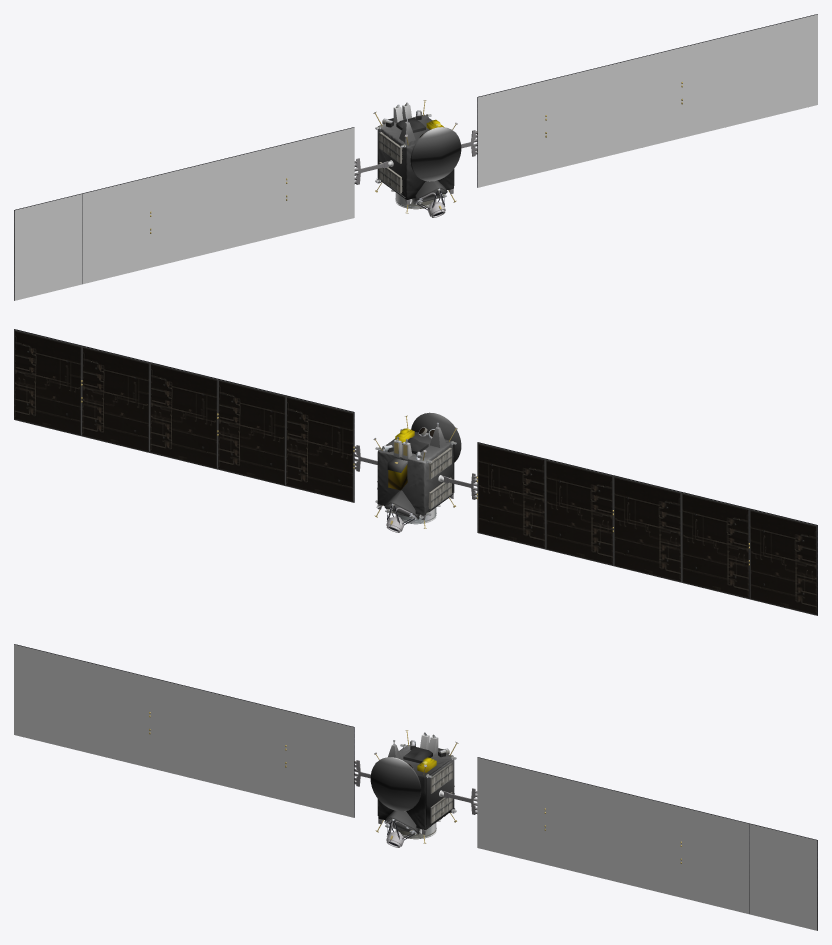
The model's file is Dawn.glb.
3 views of the same model, one above another, from view 1: azimuth 30°, elevation 25°; view 2: azimuth 150°, elevation 25°; view 3: azimuth 330°, elevation 25° (orthographic).
Parts seen in each view (by area): view 1: tex_01.002, black_krinkle, foil_silver_2, tex_01; view 2: tex_01.002, black_krinkle, tex_01, foil_silver_2, foil_gold; view 3: tex_01.002, black_krinkle, foil_silver_2, tex_01.
Boxes of the visible parts, x1,y1,x2,y2 form: tex_01.002: [14, 14, 817, 300]; black_krinkle: [377, 104, 454, 204]; foil_silver_2: [410, 127, 461, 181]; tex_01: [373, 100, 457, 217]; tex_01.002: [14, 329, 817, 615]; black_krinkle: [377, 427, 454, 519]; tex_01: [373, 415, 457, 532]; foil_silver_2: [411, 412, 461, 462]; foil_gold: [388, 428, 414, 490]; tex_01.002: [14, 644, 817, 930]; black_krinkle: [377, 734, 454, 834]; foil_silver_2: [370, 757, 421, 811]; tex_01: [374, 730, 458, 847].
Bounding box in the file's own units: 19.7 × 2.2 × 2.22.
Materials: 6 (5 with a texture image).
